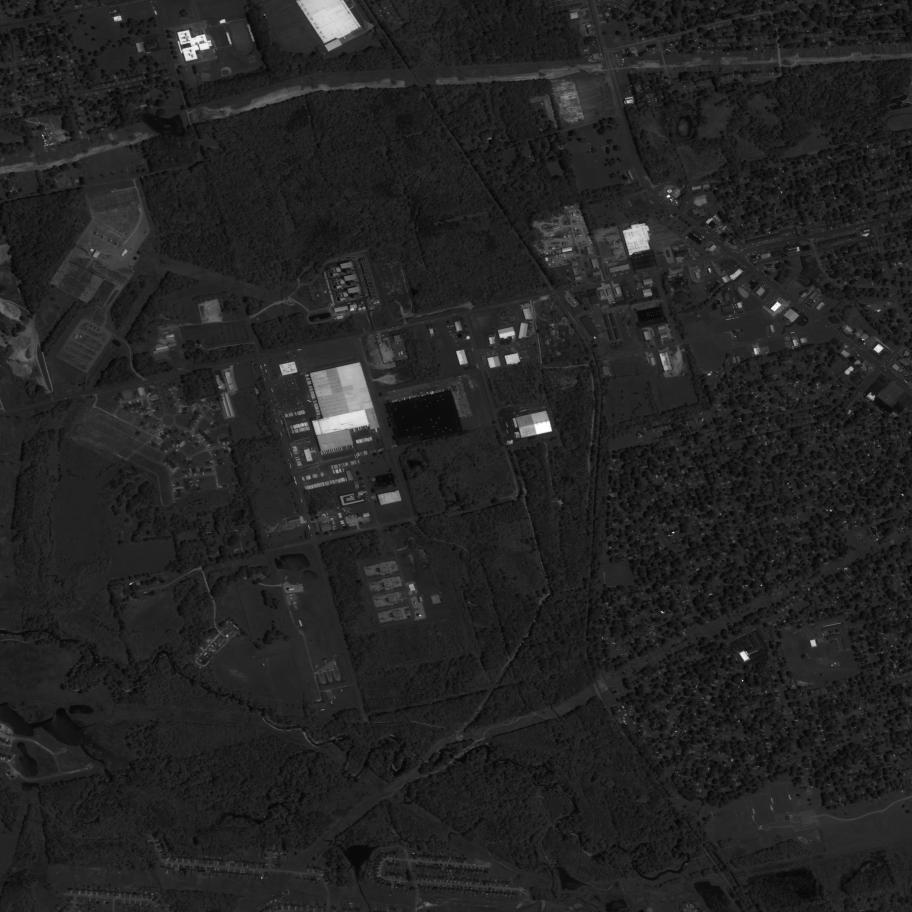storage-tank: (466, 336, 470, 340), (362, 307, 366, 310), (358, 308, 362, 311), (418, 614, 422, 617), (414, 602, 417, 604)
